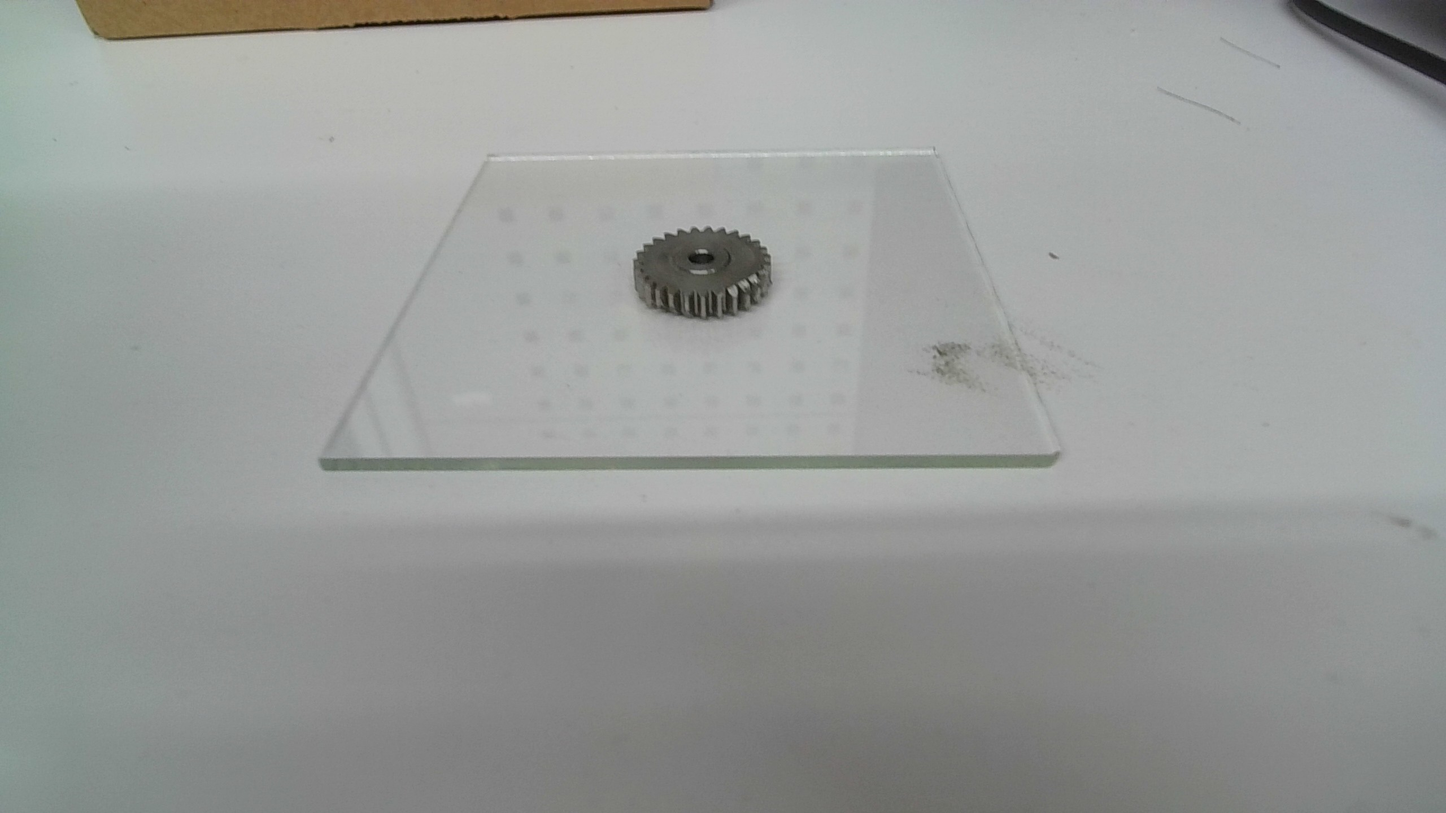gear: (630, 225, 774, 322)
